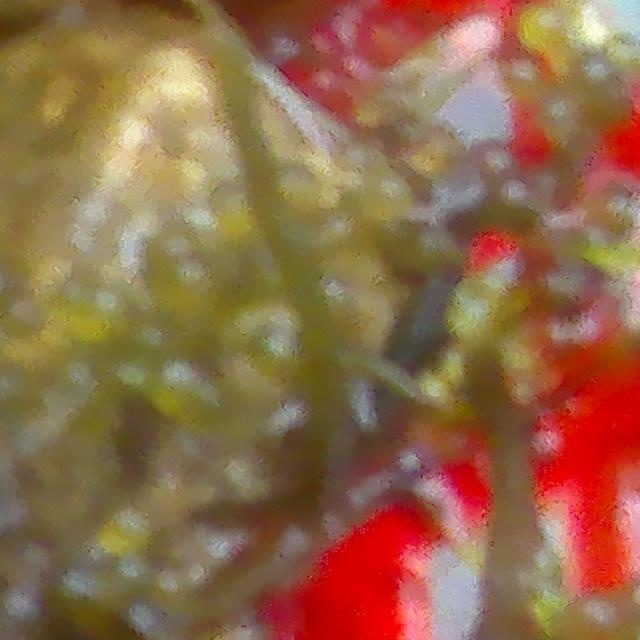SeaGrape: (0, 597, 55, 640), (472, 139, 513, 195)
